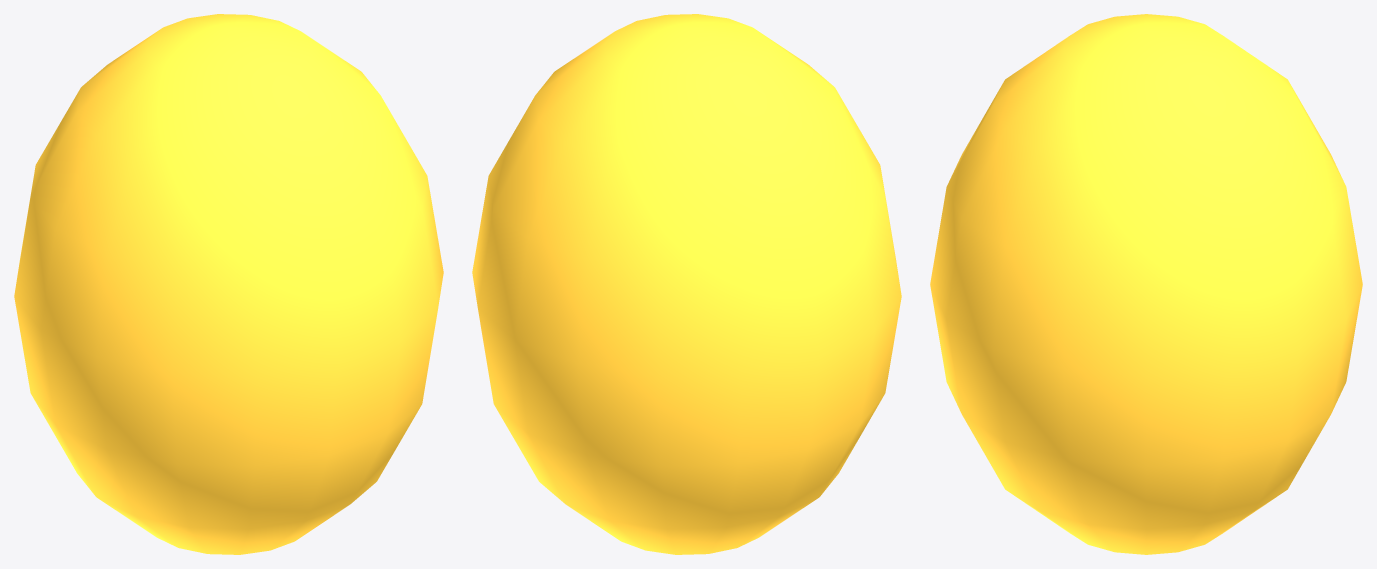
File: CR-fx_egg.glb
The picture shows the model from 3 angles, left to right: view 1: azimuth 30°, elevation 25°; view 2: azimuth 150°, elevation 25°; view 3: azimuth 270°, elevation 25°; orthographic projection.
Visible parts, largest first — view 1: fx_egg; view 2: fx_egg; view 3: fx_egg.
Part boxes in pixels (x1,y1,x2,y2): fx_egg: (14, 14, 443, 554); fx_egg: (472, 14, 901, 554); fx_egg: (930, 14, 1362, 554).
Bounding box in the file's own units: 0.26 × 0.338 × 0.26.
